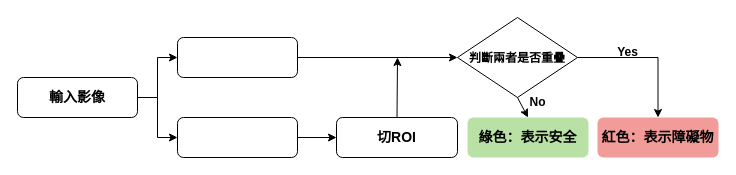
The diagram is 736 pixels wide and 175 high, and some of its shapes have lost their labels. Each missing label, with the box of its shape:
物件偵測: (176, 36, 298, 78)
鐵道分割: (176, 116, 298, 158)
